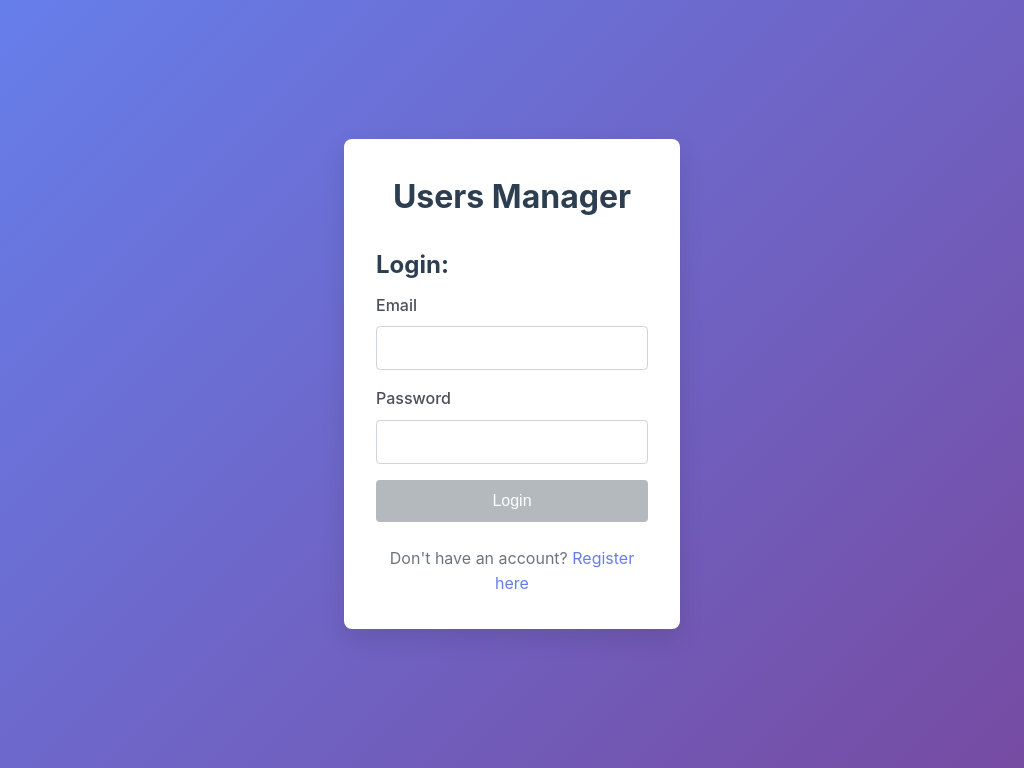
Test: form becomes complete when both fields have values
The image size is (1024, 768).
In the field labelled "Email": (512, 348) [376,326,648,370], type "test@example.com"
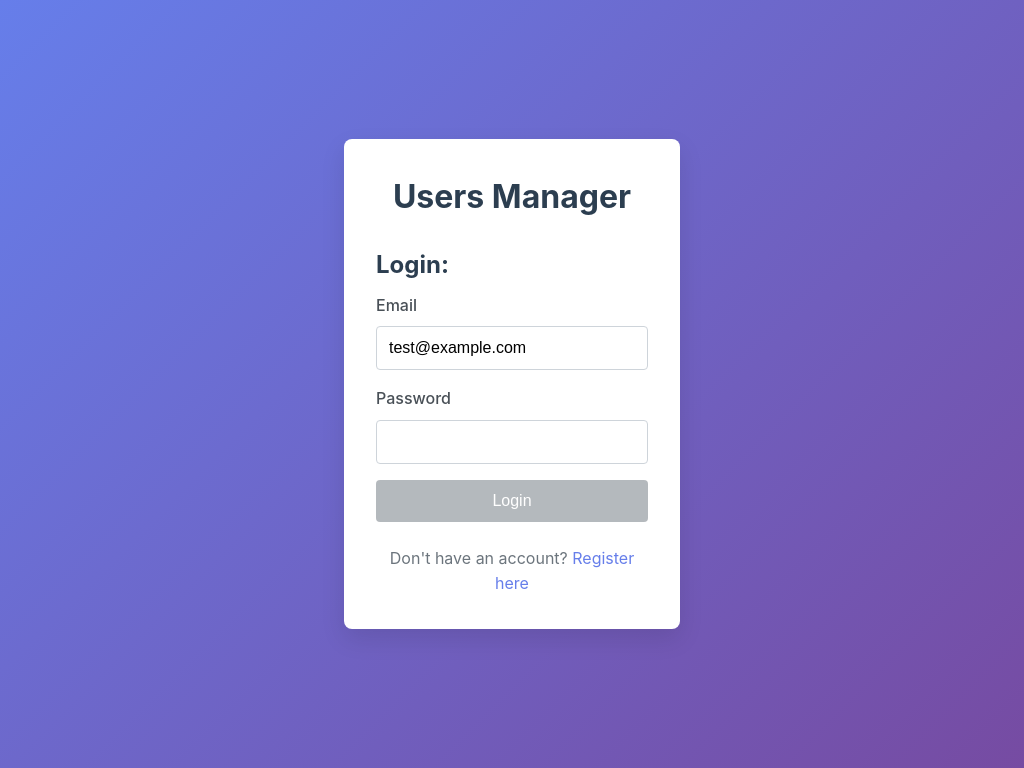
In the password field labelled "Password": (512, 442) [376,420,648,464], type "password123"
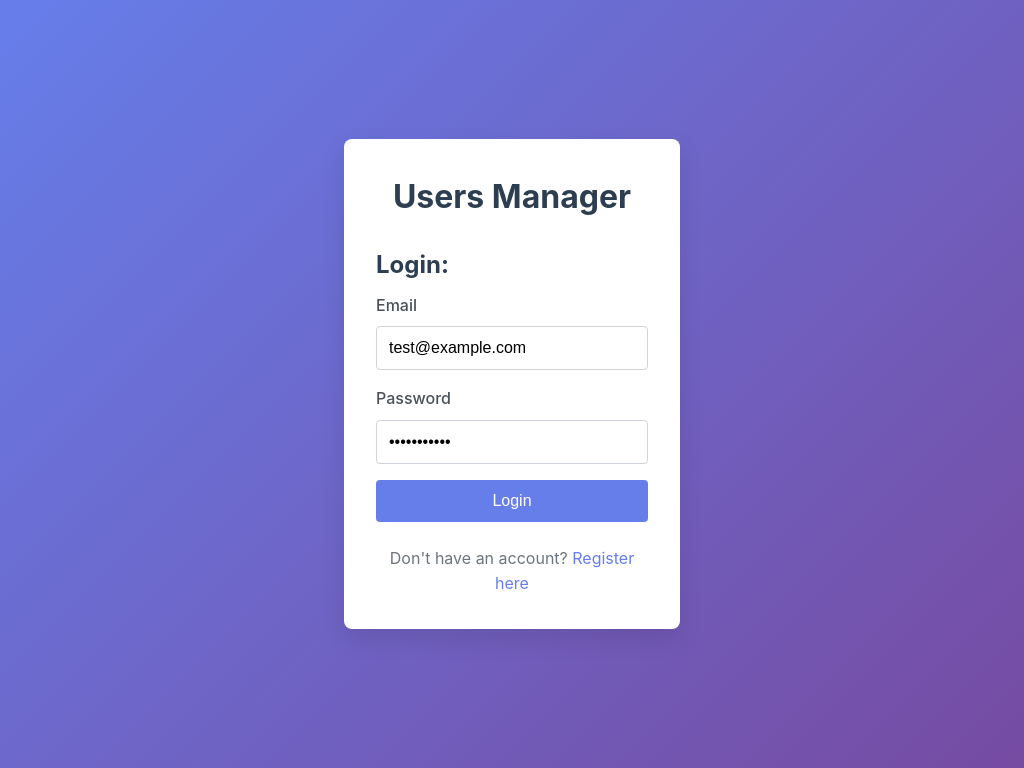
expect the button "Login" is enabled: met, box [376,480,648,522]
